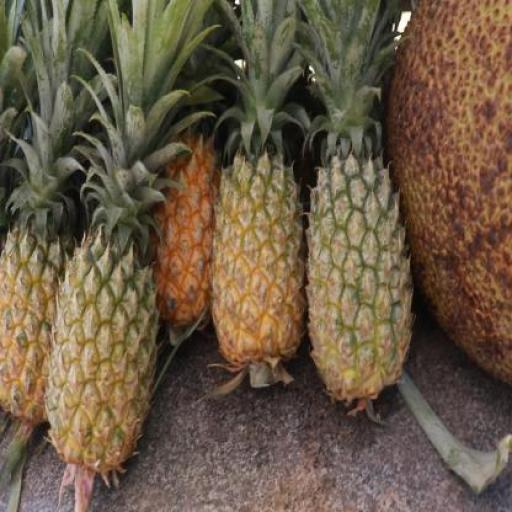------------------------------: (44, 240, 150, 462)
Pineapple - v8 v1: (210, 158, 303, 361), (0, 224, 81, 421), (152, 127, 228, 333)
